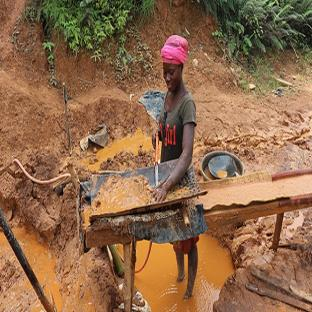Person: (139, 30, 199, 295)
ProcessingEquipment: (70, 170, 312, 296)
